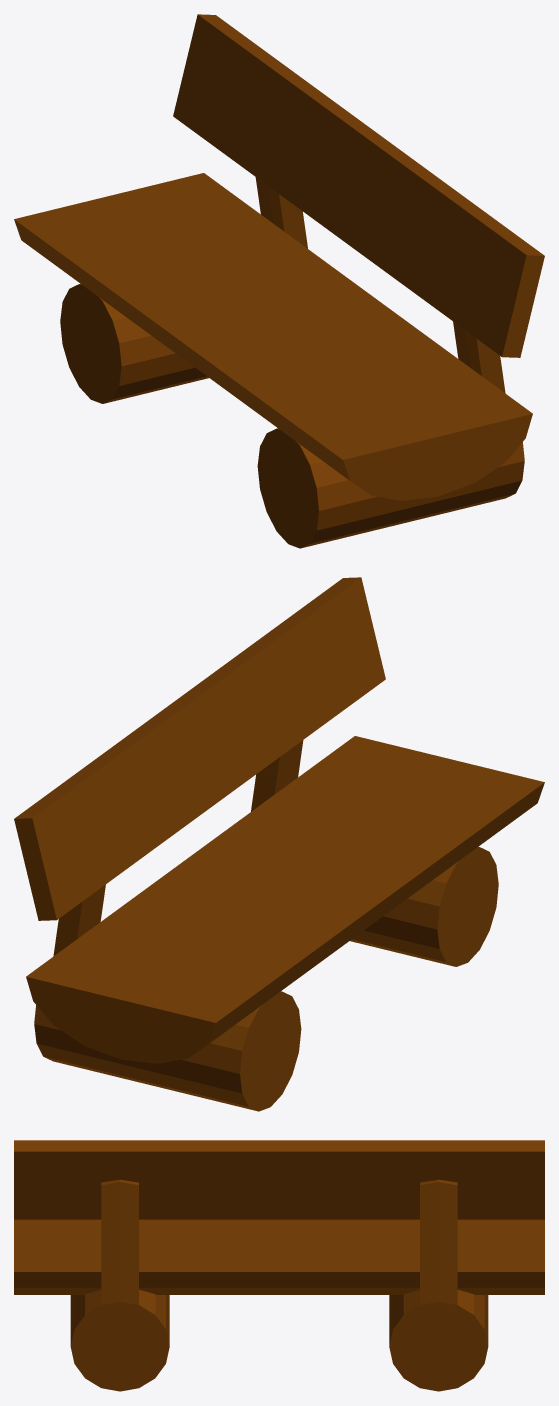
The model's file is park_bench.fbx.
3 views of the same model, one above another, from view 1: azimuth 30°, elevation 25°; view 2: azimuth 150°, elevation 25°; view 3: azimuth 270°, elevation 25° (orthographic). The views are drawn at different scales.
Visible parts, largest first — view 1: Bench; view 2: Bench; view 3: Bench.
Part boxes in pixels (<box>): Bench: <box>14,14,544,548</box>; Bench: <box>14,577,544,1111</box>; Bench: <box>14,1140,544,1391</box>.
Bounding box in the file's own units: 114 × 148 × 300.
